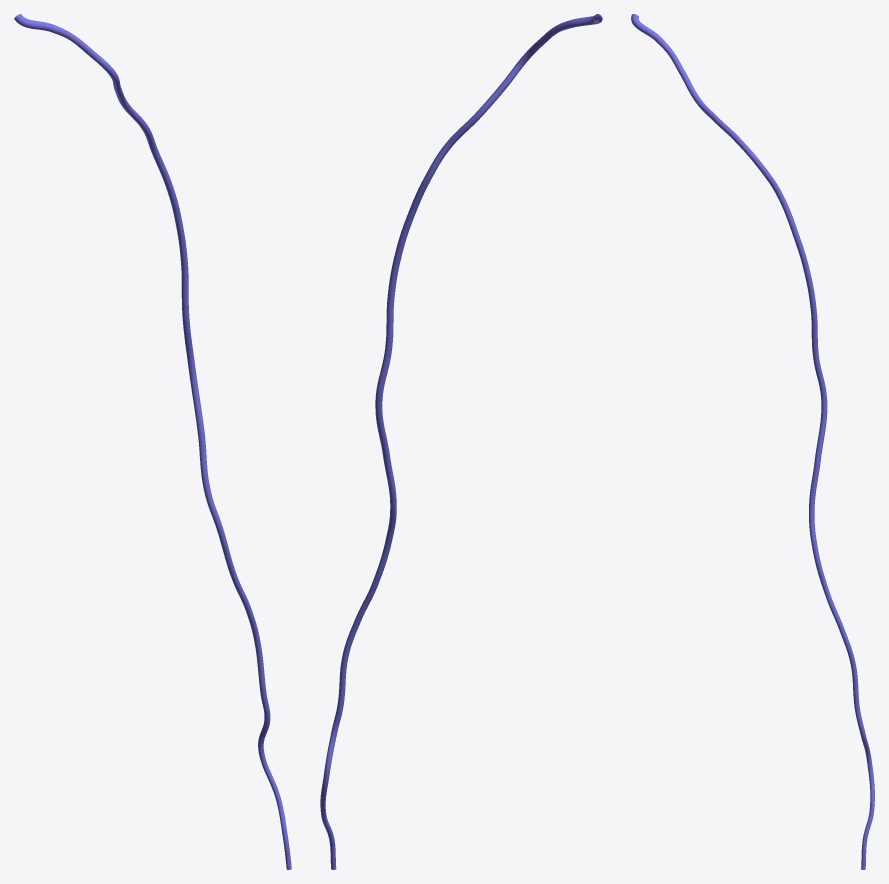
The model's file is Cephalic_vein.l_BezierCurve.295.glb.
3 views of the same model, side by side, from view 1: azimuth 30°, elevation 25°; view 2: azimuth 150°, elevation 25°; view 3: azimuth 330°, elevation 25° (orthographic). The views are drawn at different scales.
Parts seen in each view (by area): view 1: Cephalic_vein.l_BezierCurve.295; view 2: Cephalic_vein.l_BezierCurve.295; view 3: Cephalic_vein.l_BezierCurve.295.
Part boxes in pixels (x1,y1,x2,y2): Cephalic_vein.l_BezierCurve.295: (14, 14, 291, 869); Cephalic_vein.l_BezierCurve.295: (320, 14, 602, 869); Cephalic_vein.l_BezierCurve.295: (631, 14, 874, 869).
Size of the model in its own units: 0.1781 by 0.5721 by 0.0418.
